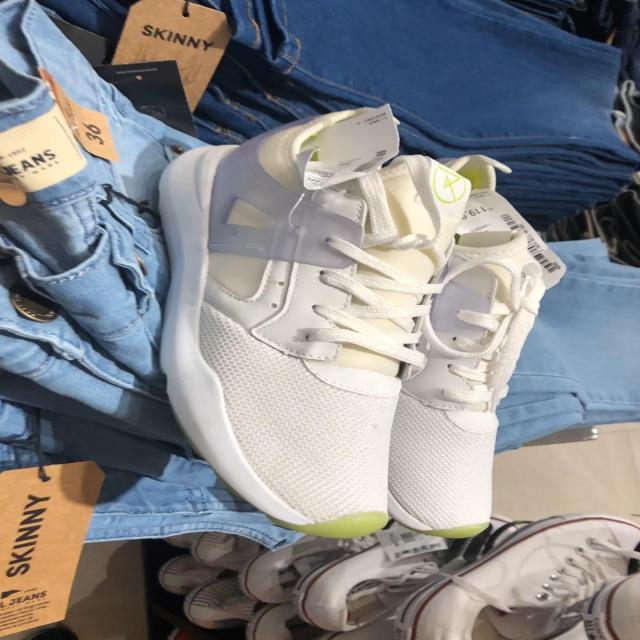shoe: (160, 107, 470, 541)
